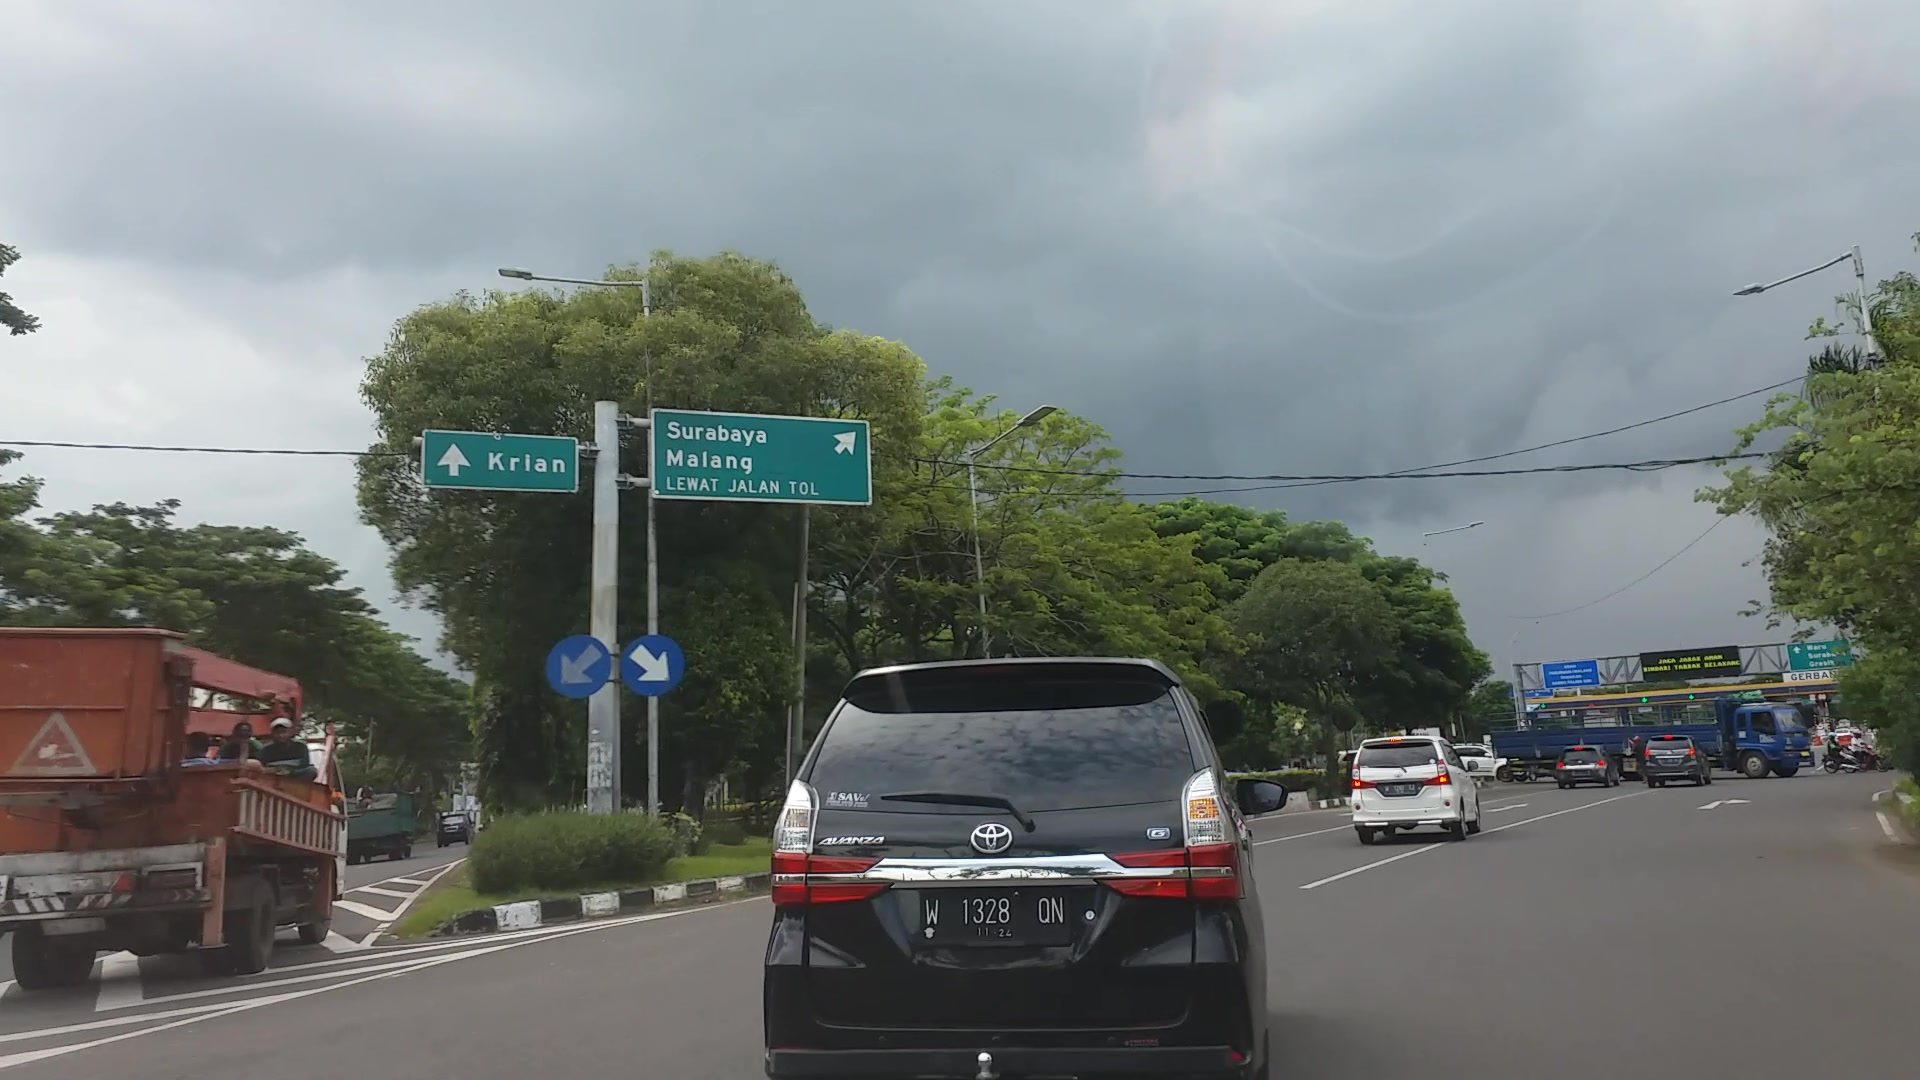plate_positive: (920, 889, 1069, 945)
